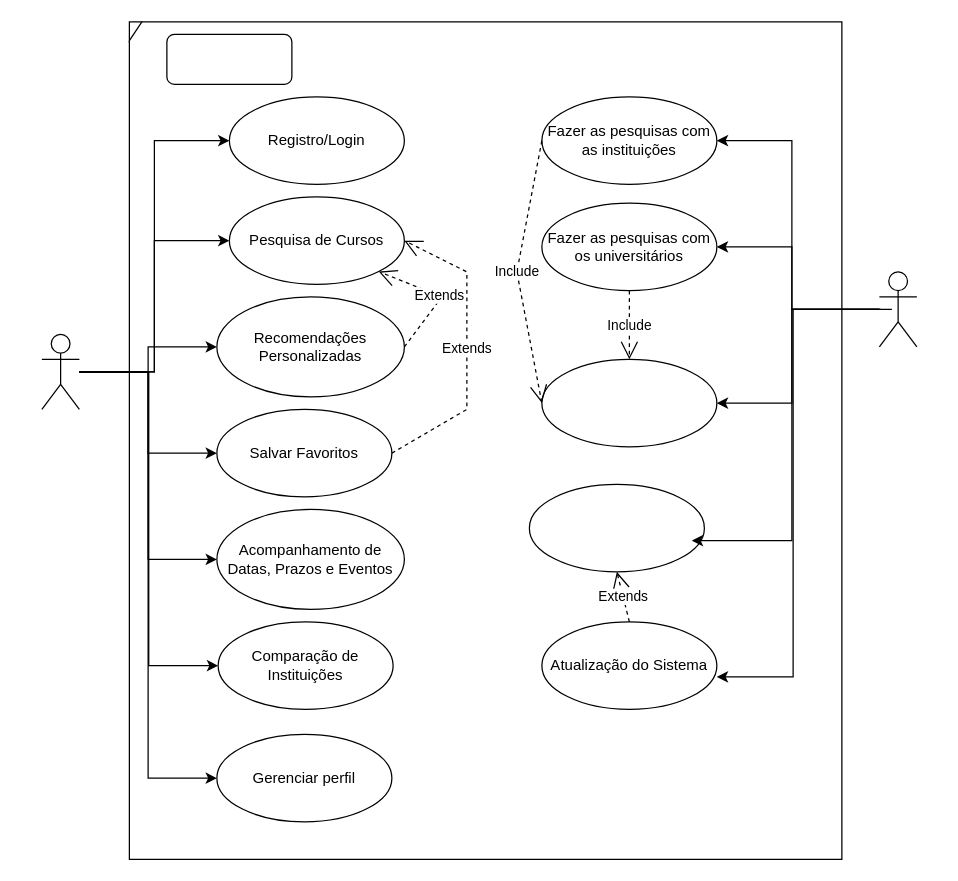
Some shapes in this 958 by 881 pixel diagram are drawn without their labels. Here are the shapes that lost their labels. From the top down, the centre of each, then its label:
the point at 229,58: FUTUREX
the point at 897,309: Equipe do sistema
the point at 60,371: Estudantes (Usuário)
the point at 629,402: Alocar os dados pesquisados
the point at 616,527: Analisar Dados de Cursos
